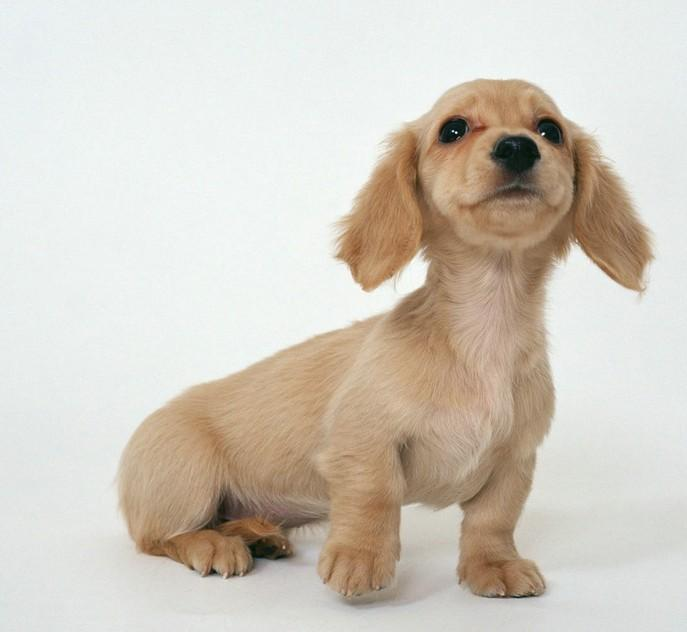dog: (105, 74, 661, 615)
